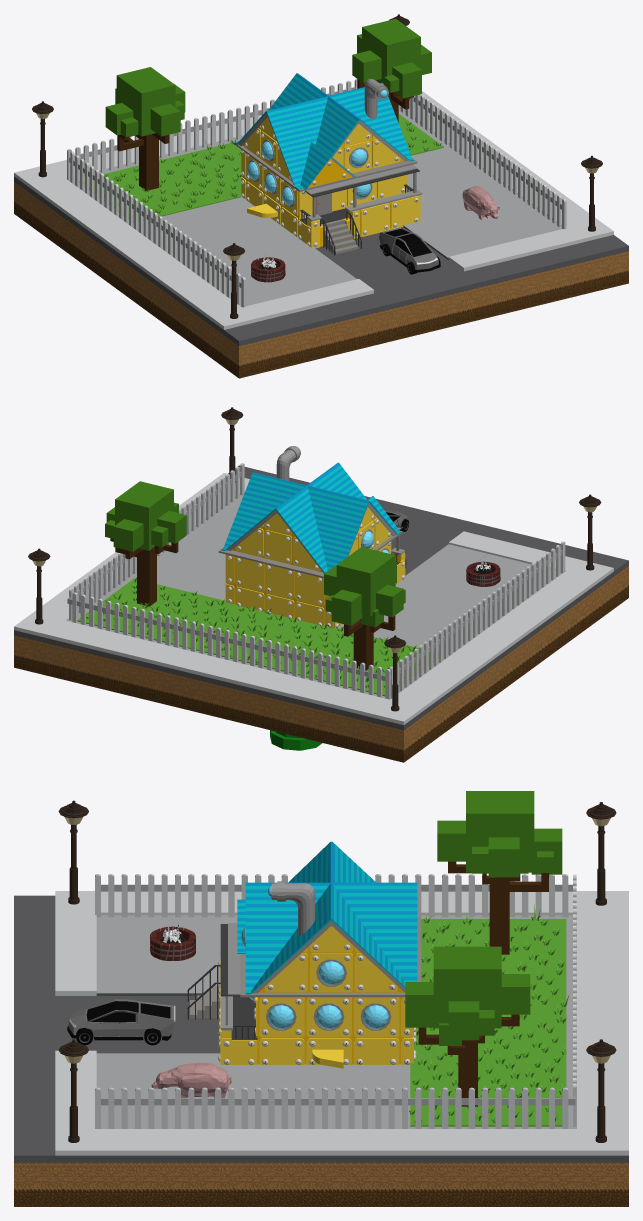
The picture shows the model from 3 angles, top to bottom: view 1: azimuth 30°, elevation 25°; view 2: azimuth 150°, elevation 25°; view 3: azimuth 270°, elevation 25°; orthographic projection. The views are drawn at different scales.
Parts seen in each view (by area): view 1: Cube.004, Cube.1366, VEHICLES_CYBERTRUCK, ANIMAL_HIPOPOTAMO, OBJRANDOM_CAMPFIRE; view 2: Cube.004, Cube.1366, OBJRANDOM_CAMPFIRE, UNDERGROUND_PIPES; view 3: Cube.004, Cube.1366, VEHICLES_CYBERTRUCK, ANIMAL_HIPOPOTAMO, OBJRANDOM_CAMPFIRE.
Part boxes in pixels (<box>): Cube.004: <box>14,14,628,378</box>; Cube.1366: <box>233,73,422,255</box>; VEHICLES_CYBERTRUCK: <box>379,227,440,274</box>; ANIMAL_HIPOPOTAMO: <box>462,186,499,219</box>; OBJRANDOM_CAMPFIRE: <box>251,255,285,282</box>; Cube.004: <box>14,407,628,762</box>; Cube.1366: <box>218,446,406,628</box>; OBJRANDOM_CAMPFIRE: <box>466,561,500,586</box>; UNDERGROUND_PIPES: <box>270,730,322,750</box>; Cube.004: <box>14,791,628,1206</box>; Cube.1366: <box>187,841,421,1068</box>; VEHICLES_CYBERTRUCK: <box>67,999,175,1045</box>; ANIMAL_HIPOPOTAMO: <box>151,1063,231,1098</box>; OBJRANDOM_CAMPFIRE: <box>150,924,195,960</box>.
Size of the model in its own units: 4000 by 2271 by 4000.
31 materials, 3 textured.
